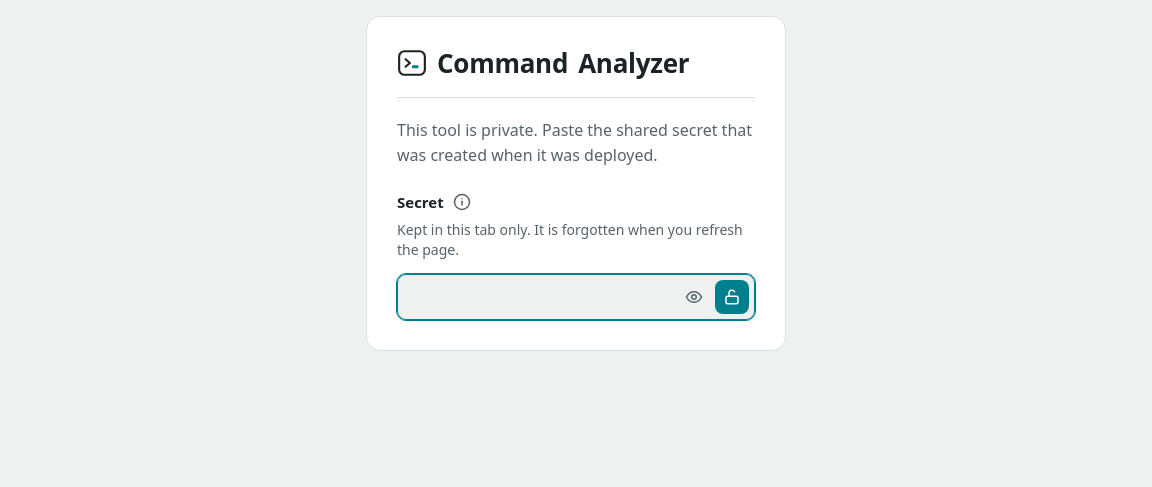
Scenario: the help popover › closes when the user clicks somewhere else, but not inside the panel
This screenshot has width=1152, height=487.
Click the button named "Where do I find it?" at [462, 202], box x1=448 y1=188 x2=476 y2=216
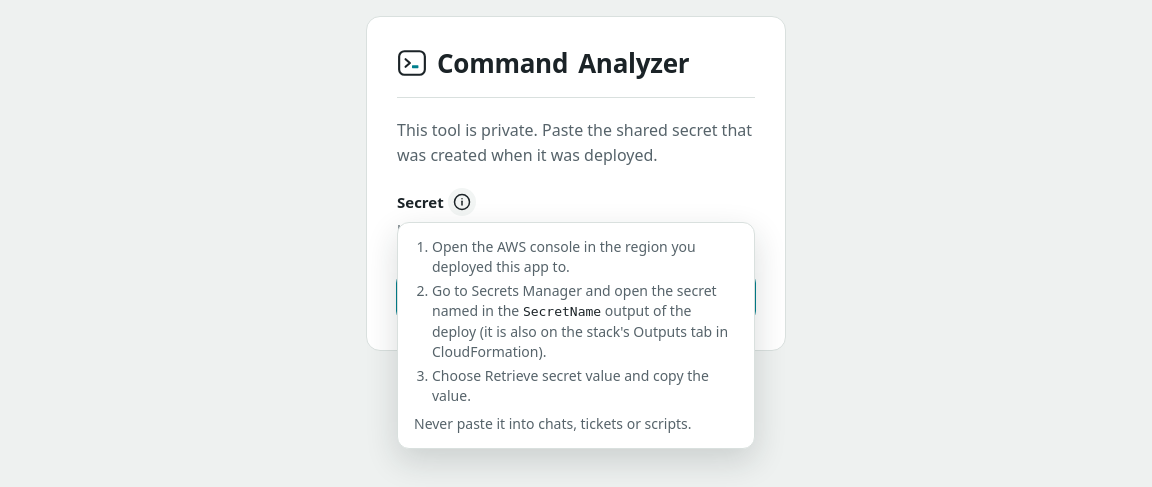
Press the mouse on the element with id "secret-help" at [576, 335], box x1=397 y1=222 x2=755 y2=449
Expected: the element with id "secret-help" is shown, x1=397 y1=222 x2=755 y2=449
Press the mouse on the element that starts with "Command" at [576, 183], box x1=0 y1=16 x2=1151 y2=351
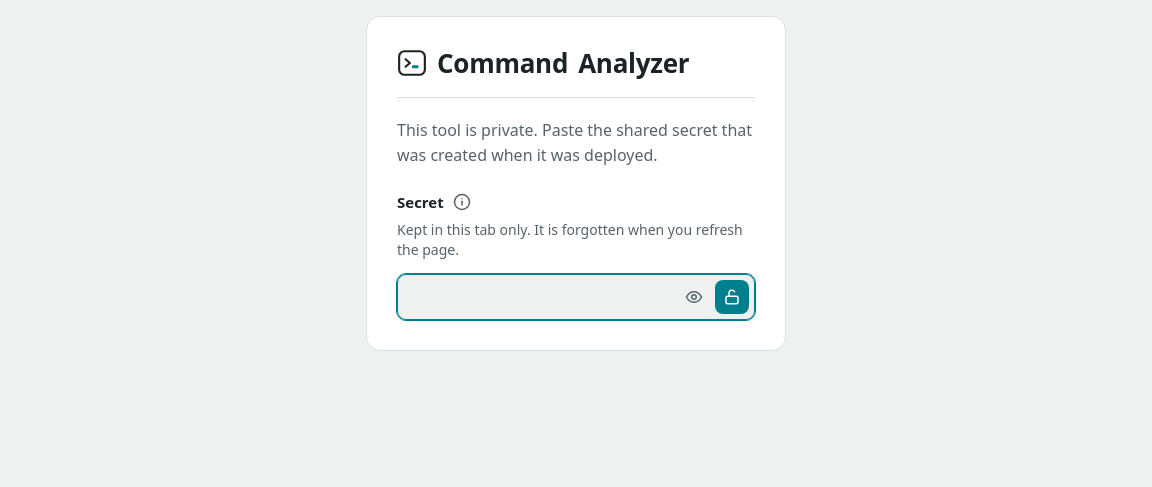
Expected: the element with id "secret-help" is gone
